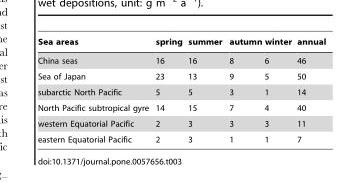table: (36, 37, 325, 143)
table column: (36, 37, 151, 143), (184, 37, 225, 143), (225, 37, 262, 143), (151, 37, 184, 143), (293, 37, 325, 143), (262, 37, 293, 143)
table column header: (36, 37, 325, 51)
table row: (36, 51, 325, 68), (36, 68, 325, 84), (36, 99, 325, 115), (36, 115, 325, 131), (36, 84, 325, 99), (36, 37, 325, 51), (36, 131, 325, 143)
